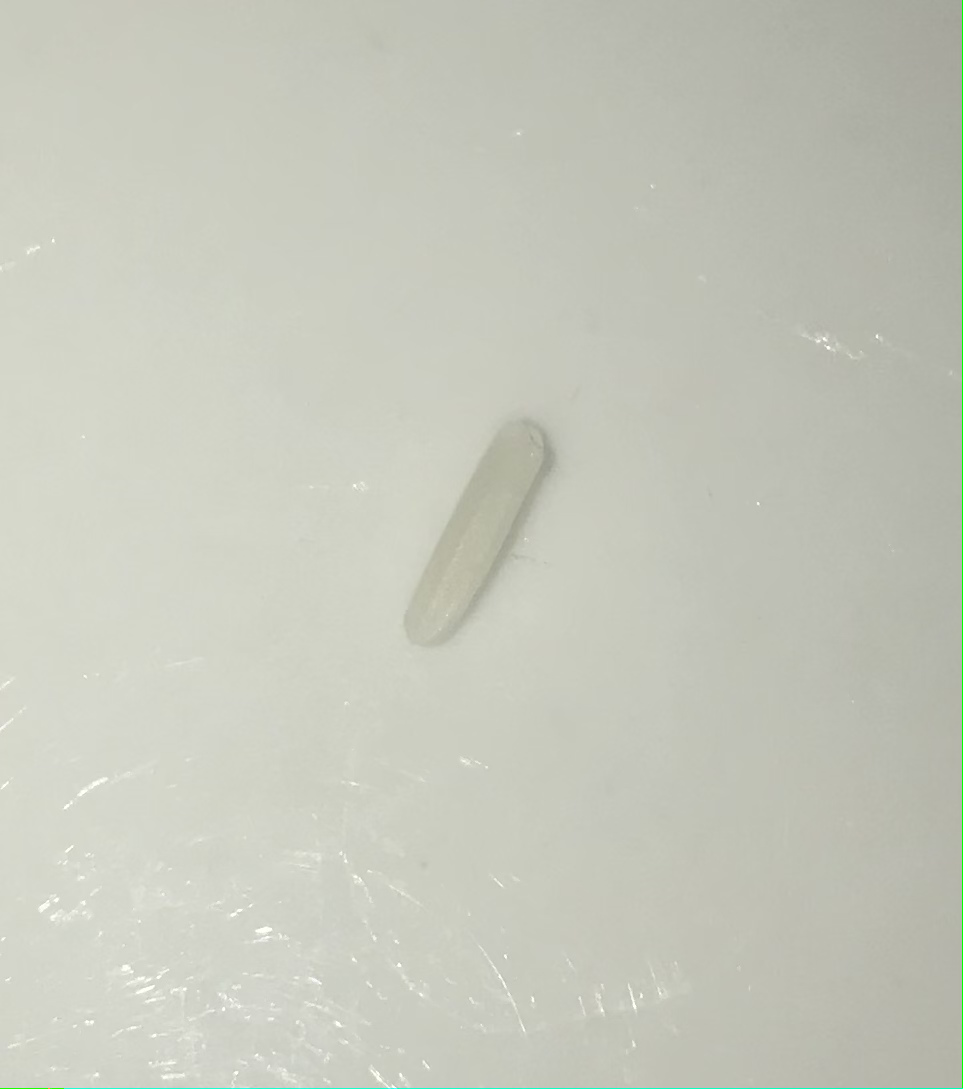Gao Thom Go Cong: (399, 404, 563, 662)
